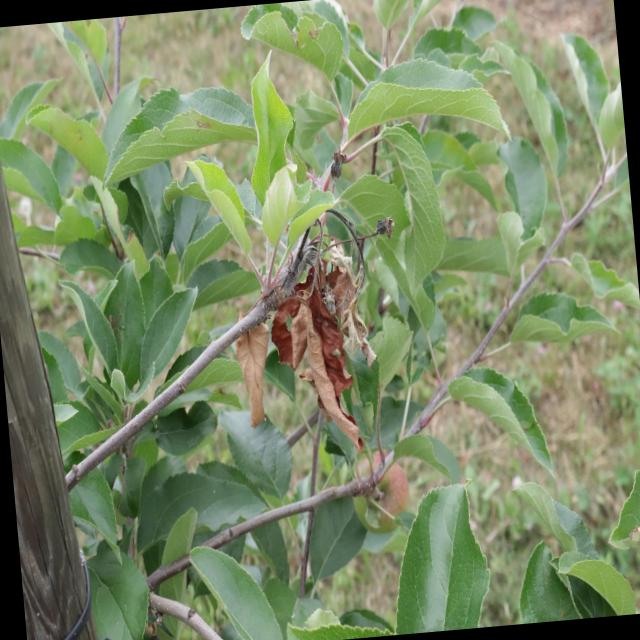-FireBlight-: (235, 242, 379, 459)
